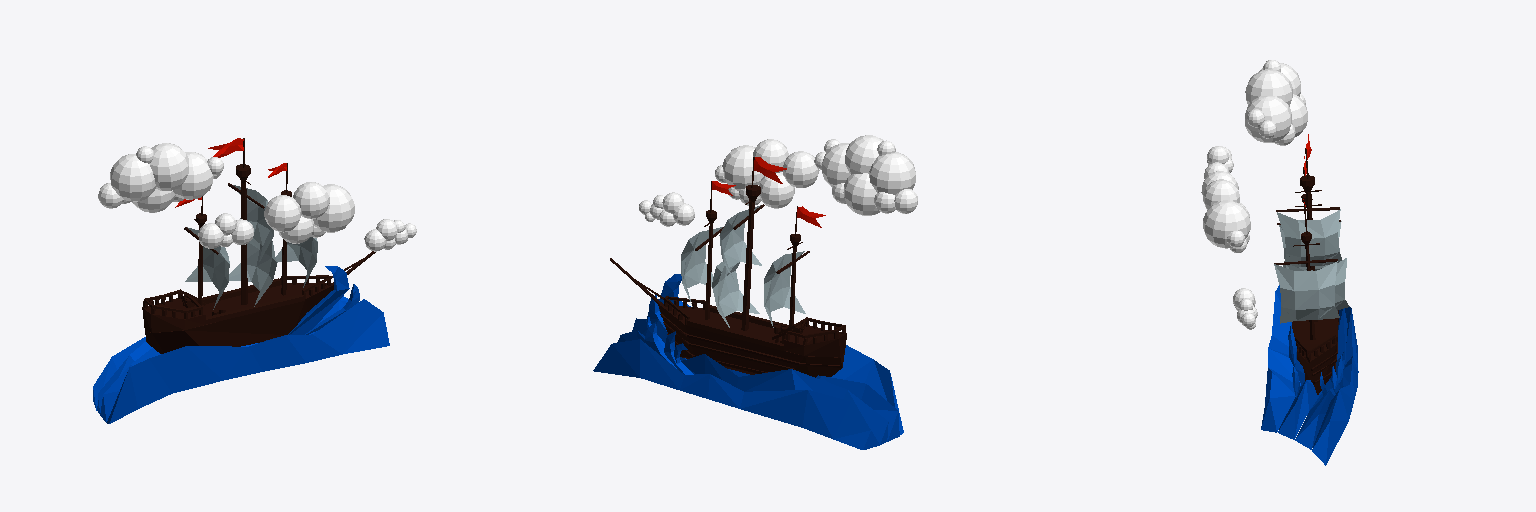
3 renders of one model, left to right at view 1: azimuth 30°, elevation 25°; view 2: azimuth 150°, elevation 25°; view 3: azimuth 270°, elevation 25°, orthographic.
Parts seen in each view (by area): view 1: group[number redacted], group[number redacted], group[number redacted], group[number redacted], group[number redacted], group[number redacted], group[number redacted], group[number redacted], group[number redacted], group[number redacted], group[number redacted], group[number redacted] (+9 smaller); view 2: group[number redacted], group[number redacted], group[number redacted], group[number redacted], group[number redacted], group[number redacted], group[number redacted], group[number redacted], group[number redacted], group[number redacted], group[number redacted], group[number redacted] (+8 smaller); view 3: group[number redacted], group[number redacted], group[number redacted], group[number redacted], group[number redacted], group[number redacted], group[number redacted], group[number redacted], group[number redacted], group[number redacted], group[number redacted], group[number redacted].
Boxes of the visible parts, box(x1,y1,x2,y2) form: group[number redacted]: box(107, 299, 389, 423); group[number redacted]: box(145, 283, 333, 353); group[number redacted]: box(110, 154, 155, 201); group[number redacted]: box(149, 143, 188, 190); group[number redacted]: box(229, 238, 277, 306); group[number redacted]: box(313, 184, 354, 232); group[number redacted]: box(142, 298, 205, 332); group[number redacted]: box(288, 266, 349, 334); group[number redacted]: box(185, 227, 229, 309); group[number redacted]: box(173, 152, 213, 199); group[number redacted]: box(264, 195, 300, 232); group[number redacted]: box(293, 182, 329, 218); group[number redacted]: box(593, 339, 879, 449); group[number redacted]: box(658, 305, 844, 377); group[number redacted]: box(617, 330, 888, 444); group[number redacted]: box(647, 299, 903, 434); group[number redacted]: box(632, 318, 899, 441); group[number redacted]: box(869, 152, 915, 194); group[number redacted]: box(764, 251, 805, 327); group[number redacted]: box(712, 262, 759, 327); group[number redacted]: box(681, 227, 722, 306); group[number redacted]: box(719, 205, 761, 281); group[number redacted]: box(722, 145, 763, 190); group[number redacted]: box(784, 325, 846, 357); group[number redacted]: box(1274, 261, 1339, 323); group[number redacted]: box(1261, 285, 1300, 432); group[number redacted]: box(1312, 307, 1358, 465); group[number redacted]: box(1277, 209, 1341, 267); group[number redacted]: box(1203, 200, 1250, 248); group[number redacted]: box(1297, 319, 1337, 394); group[number redacted]: box(1295, 308, 1347, 449); group[number redacted]: box(1245, 96, 1291, 142); group[number redacted]: box(1245, 69, 1292, 106); group[number redacted]: box(1278, 380, 1321, 439); group[number redacted]: box(1203, 179, 1239, 209); group[number redacted]: box(1286, 258, 1349, 310).
Size of the model in its own units: 0.935 by 0.8195 by 0.4174.